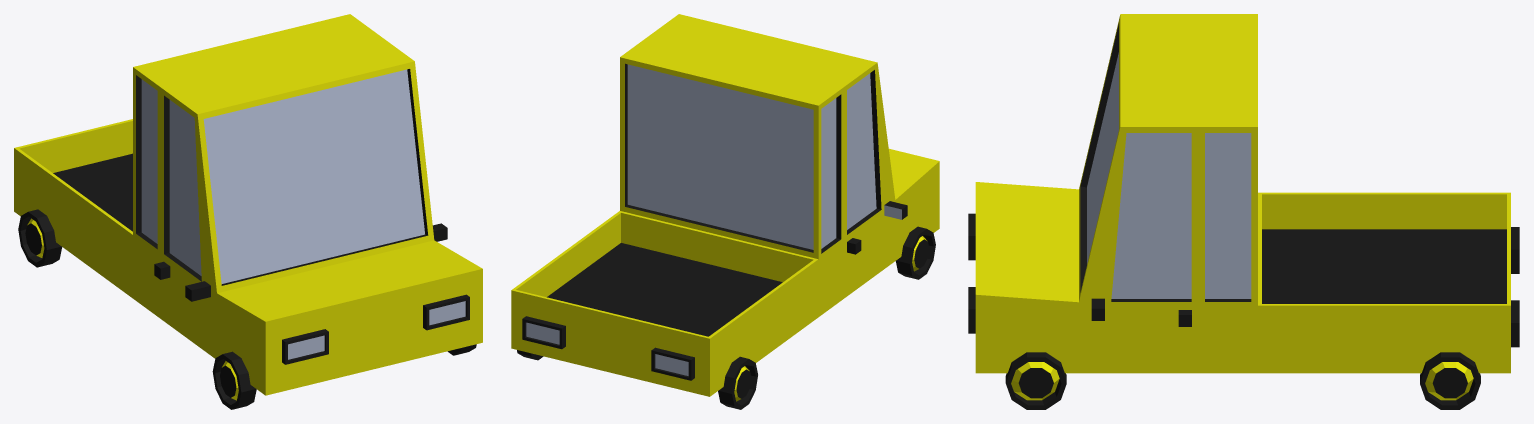
File: Car 3.fbx
3 views of the same model, side by side, from view 1: azimuth 30°, elevation 25°; view 2: azimuth 150°, elevation 25°; view 3: azimuth 270°, elevation 25° (orthographic). The views are drawn at different scales.
Parts seen in each view (by area): view 1: Car, Back Right Tire, Front Right Tire; view 2: Car, Front Right Tire, Back Right Tire; view 3: Car, Front Left Tire, Back Left Tire.
Boxes of the visible parts, x1=… form: Car: x1=14, y1=14, x2=482, y2=395; Back Right Tire: x1=18, y1=209, x2=62, y2=267; Front Right Tire: x1=212, y1=351, x2=256, y2=409; Car: x1=511, y1=14, x2=939, y2=396; Front Right Tire: x1=895, y1=226, x2=935, y2=279; Back Right Tire: x1=718, y1=356, x2=757, y2=409; Car: x1=968, y1=14, x2=1519, y2=373; Front Left Tire: x1=1005, y1=352, x2=1066, y2=409; Back Left Tire: x1=1420, y1=352, x2=1480, y2=409.
Size of the model in its own units: 2.36 by 2.3 by 4.13.
